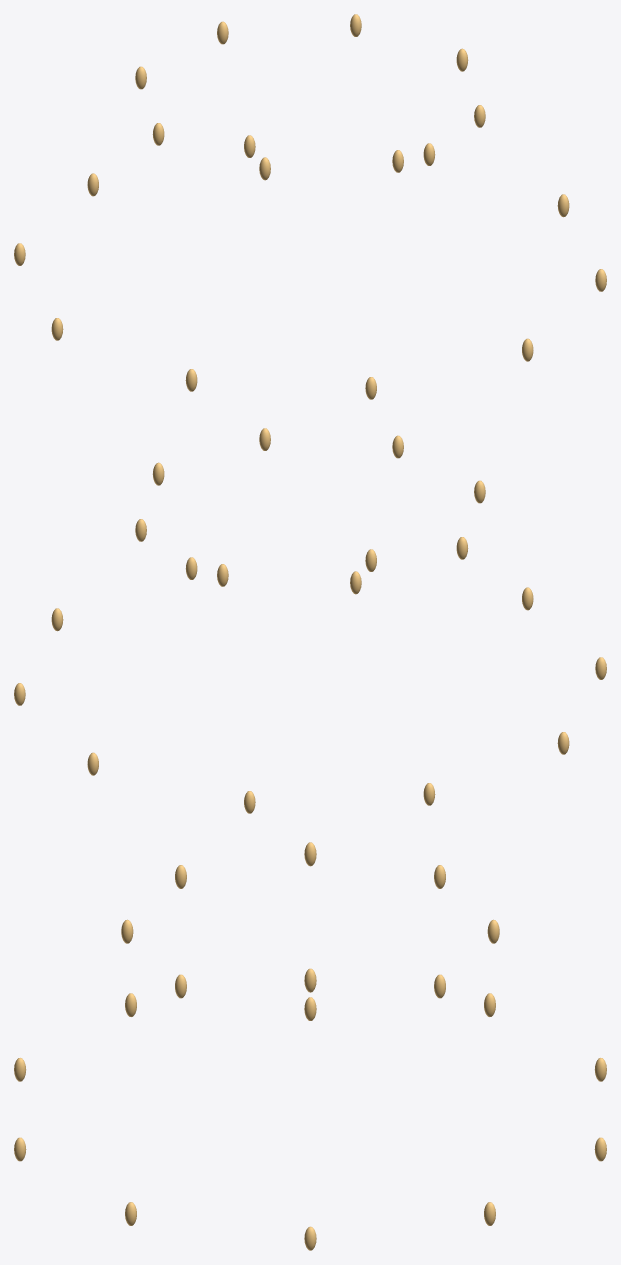
File: KRM_M37_P5MODL_flames.fbx
3 renders of one model, top to bottom at view 1: azimuth 30°, elevation 25°; view 2: azimuth 150°, elevation 25°; view 3: azimuth 270°, elevation 25°, orthographic. The views are drawn at different scales.
Parts seen in each view (by area): view 1: KRM_M37_P5MODL_flames; view 2: KRM_M37_P5MODL_flames; view 3: KRM_M37_P5MODL_flames.
Part boxes in pixels (x1,y1,x2,y2): KRM_M37_P5MODL_flames: (14,14,606,399); KRM_M37_P5MODL_flames: (14,428,606,813); KRM_M37_P5MODL_flames: (14,842,606,1250).
Size of the model in its own units: 143 by 51 by 136.
Materials: 1 (1 with a texture image).
